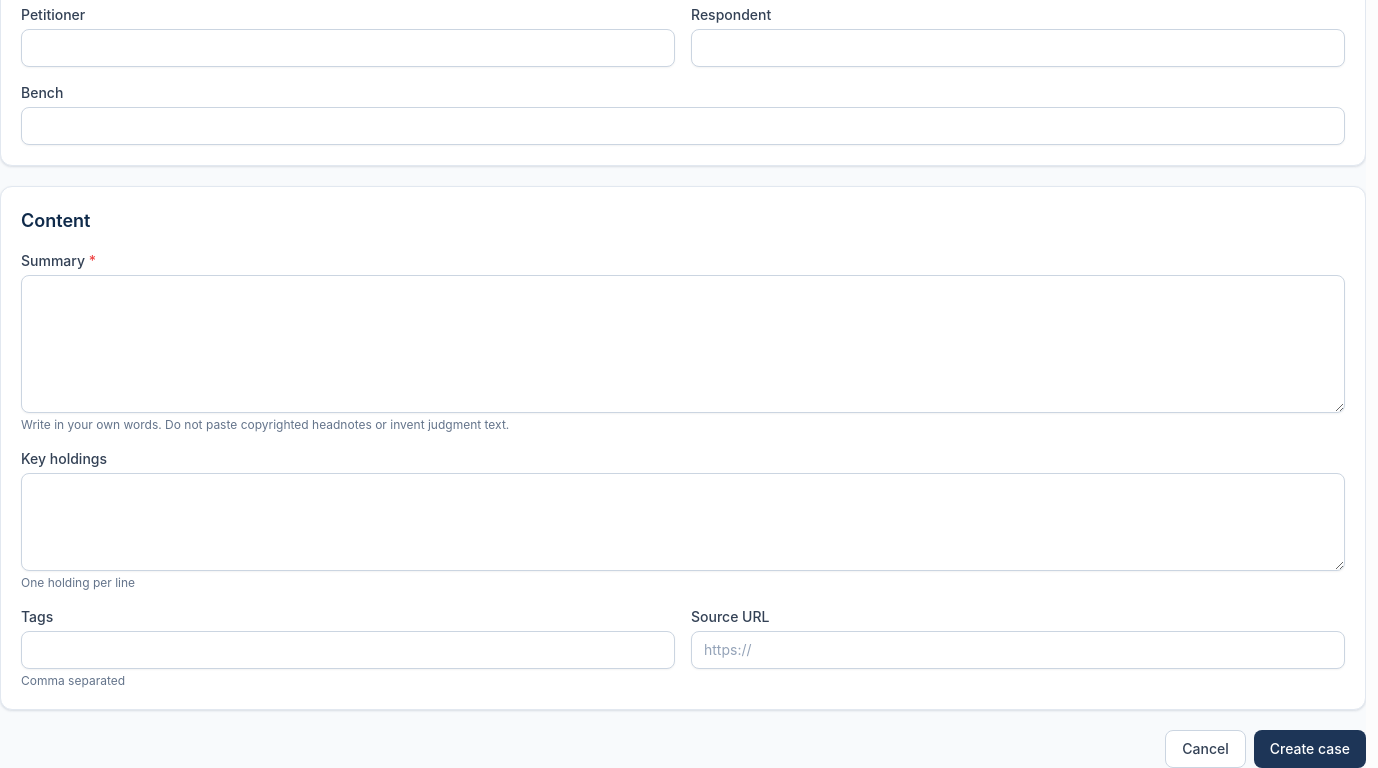
Test: CaseForm › blocks submission and shows field errors when required data is missing
The image size is (1378, 768).
(page scrolled)
Click the button "Create case": click(1310, 749) [1254,730,1366,767]
(page scrolled)
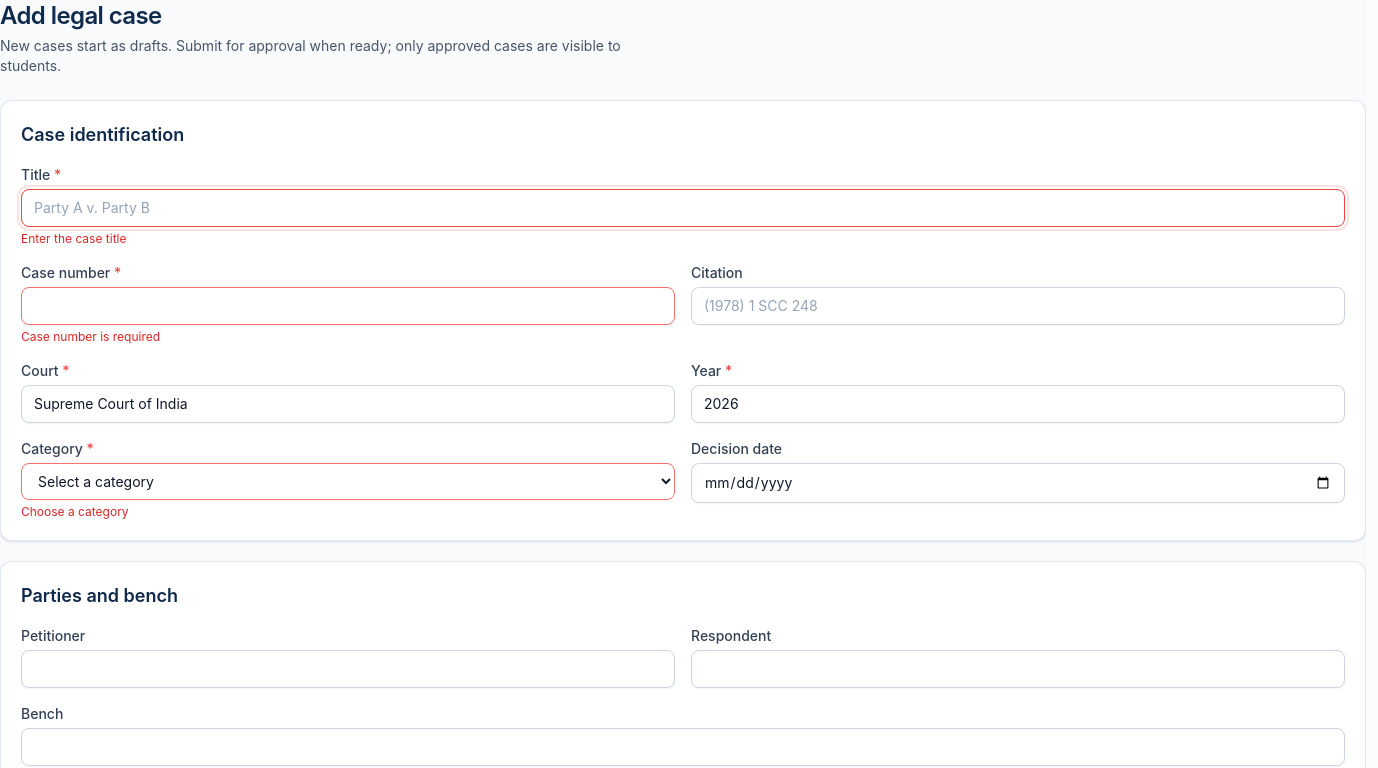
Now the text "Enter the case title" is shown, box [21,231,126,246]
Now the text "Case number is required" is shown, box [21,329,160,344]
Now the text "Choose a category" is shown, box [21,504,129,519]
